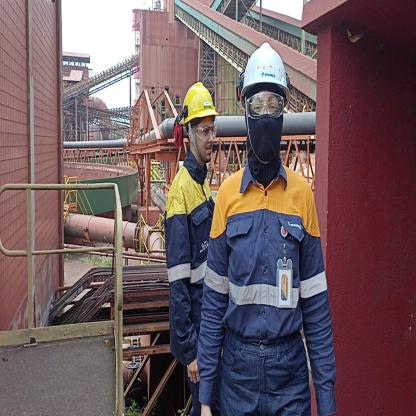Balaclava: (246, 92, 283, 172)
C_eletrica: (164, 163, 212, 352)
Capacete: (239, 38, 292, 91), (179, 81, 218, 120)
Operacional: (202, 175, 335, 401)
